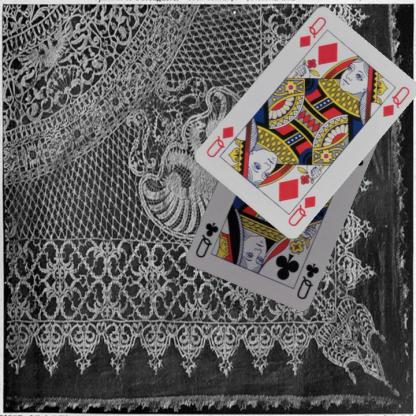Qc: (294, 260, 321, 300)
Qd: (285, 186, 318, 228), (296, 13, 328, 49)
